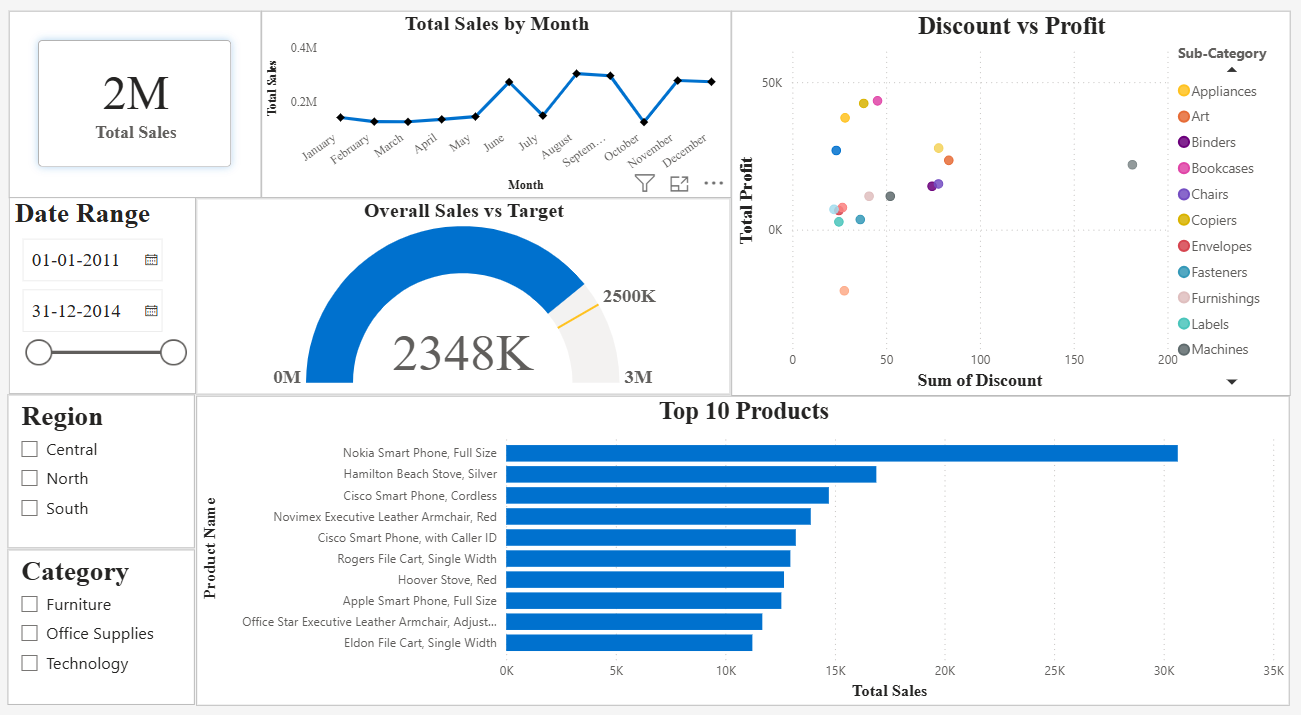

The dashboard page shown, as its layout file describes it:
{"tool":"powerbi","page":{"name":"Sales Details","canvas":[1280,720],"ordinal":1},"visuals":[{"type":"slicer","title":"Date Range","fields":{"Values":["Sheet1.Order Date"]},"box":[12.9,205.7,182.9,192.9],"z":0},{"type":"slicer","fields":{"Values":["Sheet1.Region"]},"box":[12.2,398.6,183.4,150.4],"z":1000},{"type":"slicer","fields":{"Values":["Sheet1.Category"]},"box":[12.2,550.3,183.4,151.6],"z":2000},{"type":"barChart","title":"Top 10 Products","fields":{"Category":["Sheet1.Product Name"],"Y":["Sheet1.Total Sales"]},"box":[196.9,399.9,1070,303.3],"z":4000},{"type":"scatterChart","title":"Discount vs Profit","fields":{"X":["Sum(Sheet1.Discount)"],"Y":["Sheet1.Total Profit"],"Series":["Sheet1.Sub-Category"]},"box":[720,22.9,547.1,377.1],"z":5000},{"type":"cardVisual","fields":{"Data":["Sheet1.Total Sales"]},"box":[12.9,22.9,247.1,182.9],"z":6000},{"type":"lineChart","fields":{"Y":["Sheet1.Total Sales"],"Category":["Sheet1.Order Date.Variation.Date Hierarchy.Month"]},"box":[260,22.9,460,182.9],"z":7000},{"type":"gauge","title":"Overall Sales vs Target","fields":{"Y":["Sheet1.Total Sales"],"TargetValue":["Sheet1.Sales Target"]},"box":[196.9,206.7,522.1,192],"z":7001}]}

Visuals, with their boxes in screenshot pixels (x1, y1, x2, y2), scaled from the page's 1280x720 canvas onto the 1301x715 screenshot:
"Date Range" slicer: rect(13, 204, 199, 396)
slicer - Sheet1.Region: rect(12, 396, 199, 545)
slicer - Sheet1.Category: rect(12, 546, 199, 697)
"Top 10 Products" barChart: rect(200, 397, 1288, 698)
"Discount vs Profit" scatterChart: rect(732, 23, 1288, 397)
cardVisual - Sheet1.Total Sales: rect(13, 23, 264, 204)
lineChart - Sheet1.Total Sales x Sheet1.Order Date.Variation.Date Hierarchy.Month: rect(264, 23, 732, 204)
"Overall Sales vs Target" gauge: rect(200, 205, 731, 396)
